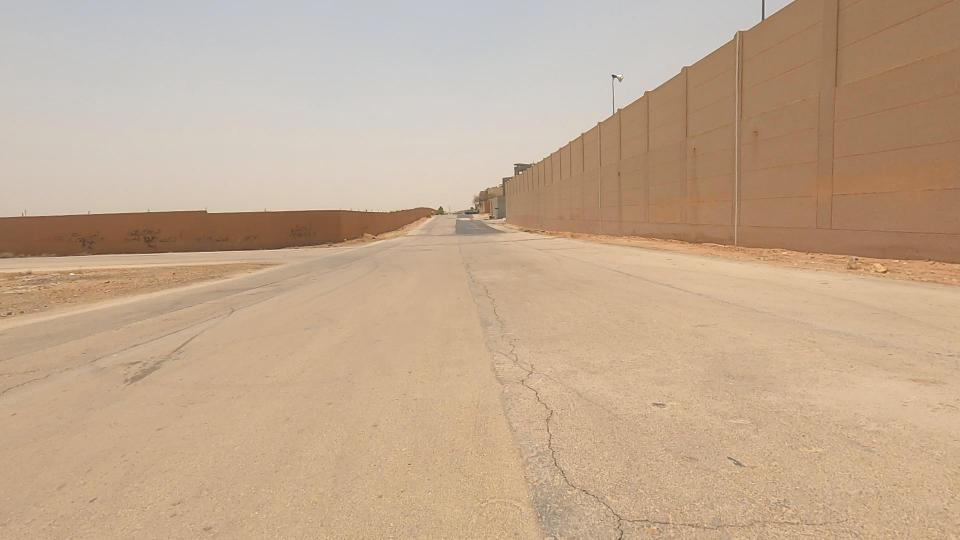GRAFFITI: (102, 205, 196, 267), (265, 207, 350, 261), (43, 219, 127, 265), (178, 220, 264, 263)
